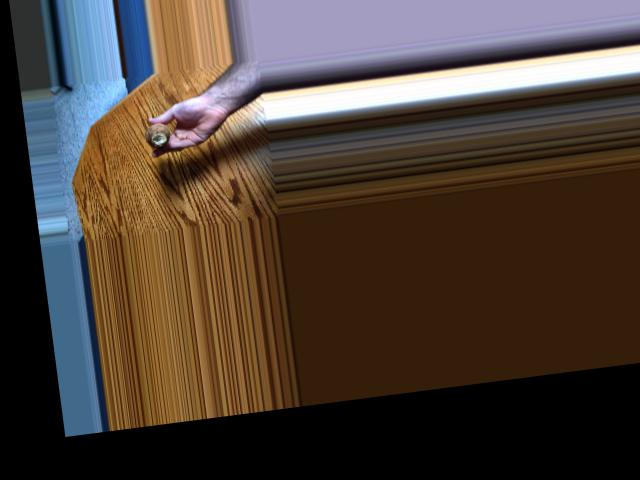sweet_potato: (143, 119, 168, 148)
